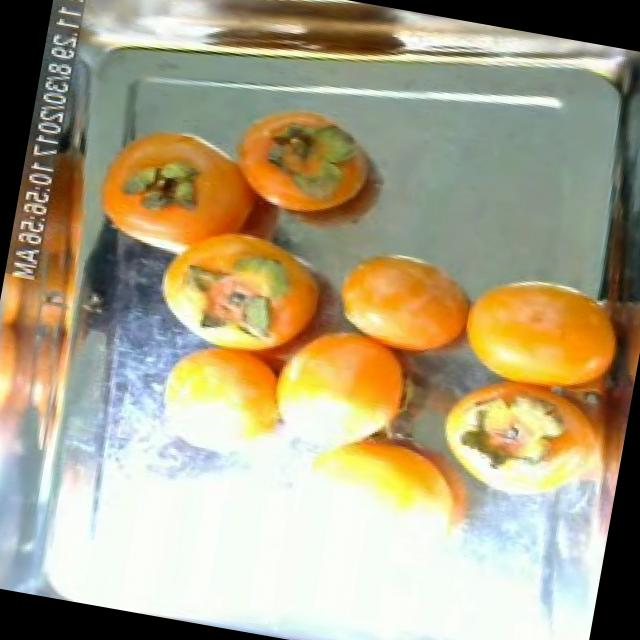Fruit: (203, 86, 409, 258), (70, 102, 253, 279), (444, 253, 640, 417), (316, 229, 498, 376)
